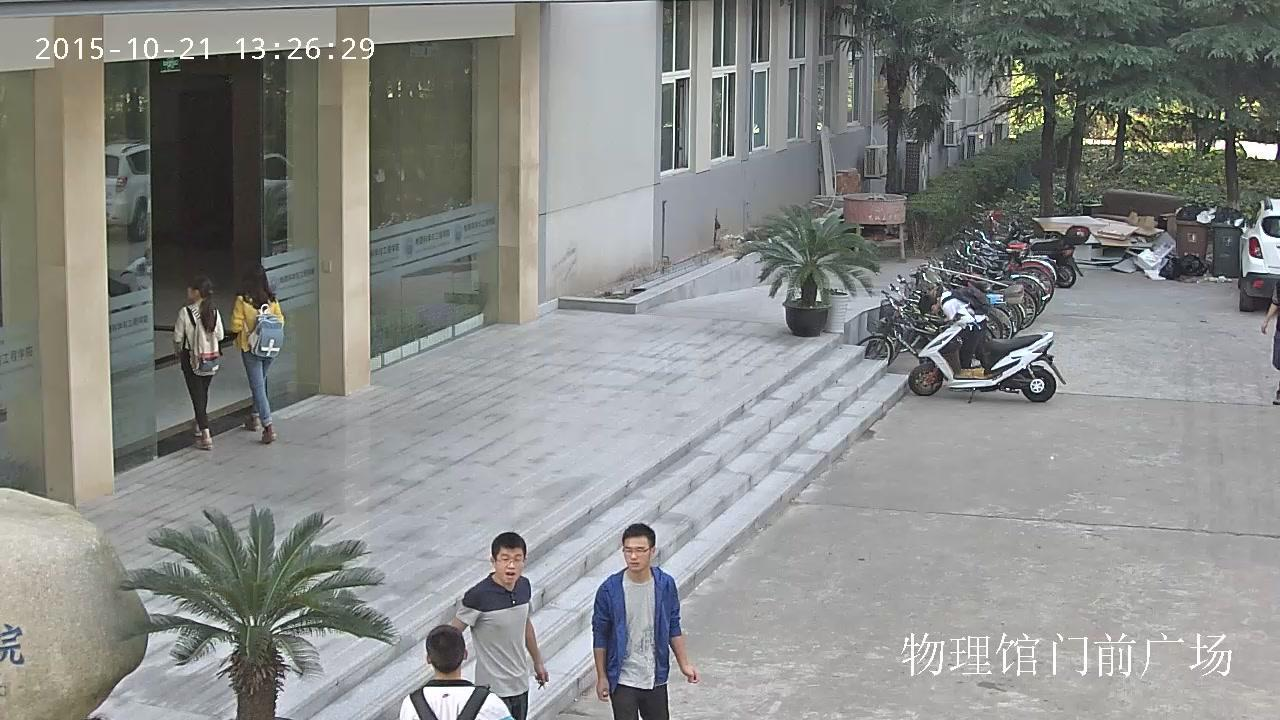person: (592, 524, 700, 720), (447, 531, 549, 720), (397, 624, 515, 720), (230, 267, 284, 443), (172, 274, 226, 449), (919, 284, 990, 372)
